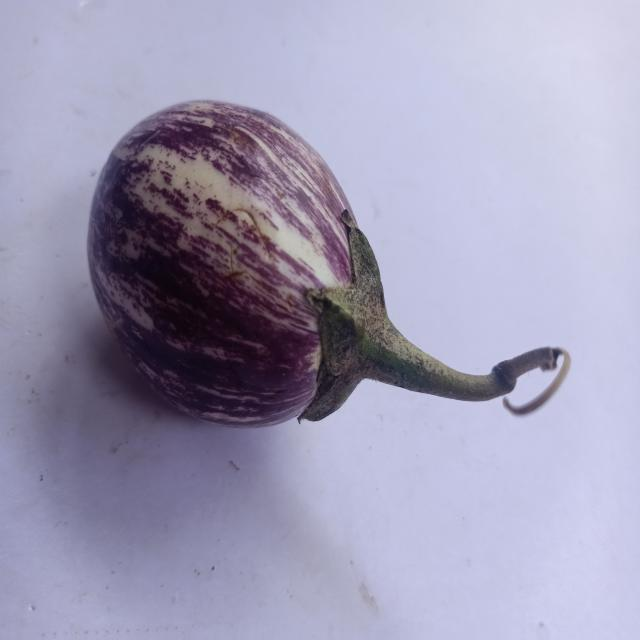Eggplant: (62, 75, 580, 484)
